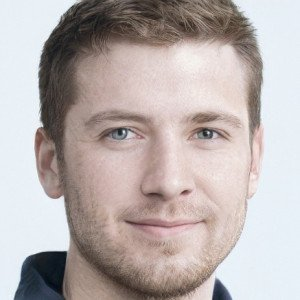person: (33, 9, 275, 294)
